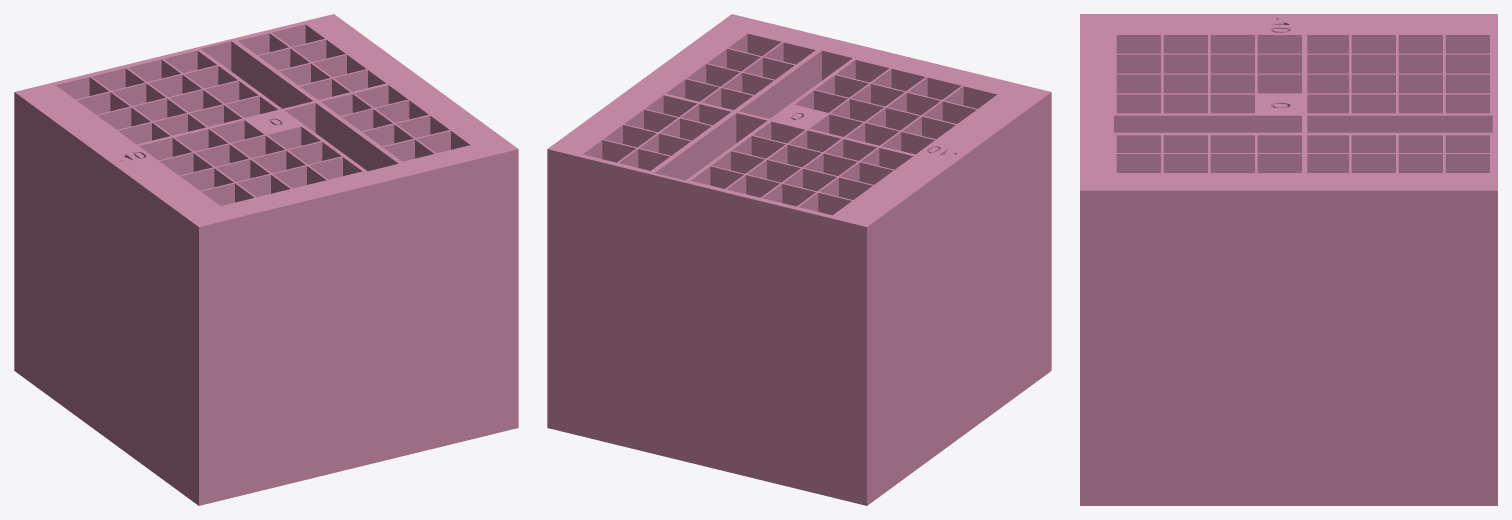
The picture shows the model from 3 angles, left to right: view 1: azimuth 30°, elevation 25°; view 2: azimuth 150°, elevation 25°; view 3: azimuth 270°, elevation 25°; orthographic projection. The views are drawn at different scales.
Parts seen in each view (by area): view 1: Mesh_Mesh_head_geo.001_lambert2SG.001; view 2: Mesh_Mesh_head_geo.001_lambert2SG.001; view 3: Mesh_Mesh_head_geo.001_lambert2SG.001.
Boxes of the visible parts, x1,y1,x2,y2 form: Mesh_Mesh_head_geo.001_lambert2SG.001: [14, 14, 518, 505]; Mesh_Mesh_head_geo.001_lambert2SG.001: [547, 14, 1051, 505]; Mesh_Mesh_head_geo.001_lambert2SG.001: [1080, 14, 1497, 505].
Bounding box in the file's own units: 12 × 10 × 12.
